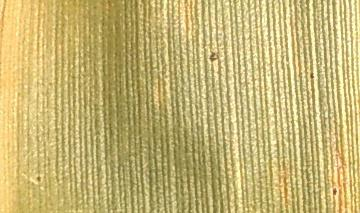tarspot: (207, 49, 218, 64), (331, 186, 338, 197), (35, 174, 42, 183), (309, 71, 315, 80)
